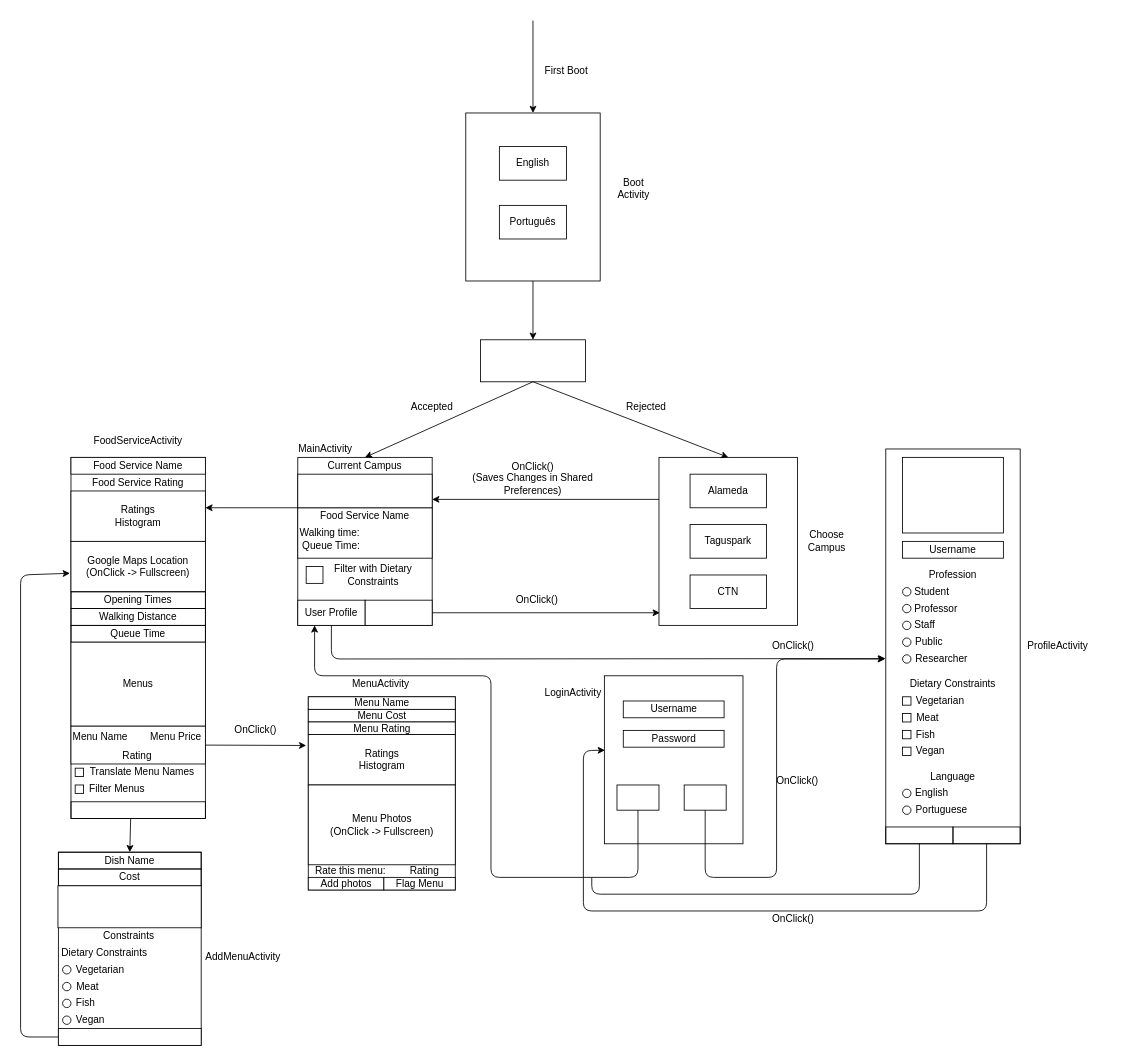
This 1127x1060 diagram has some shape labels left out. The shapes that lost their labels are listed below. From the top down, each one's centre as x and y in pixels, then its label:
point (532, 360): Location permission access
point (364, 490): Dinning options at current Campus
point (952, 495): Foto
point (398, 612): Change Campus
point (137, 810): Add menu
point (637, 797): Login / Logout
point (704, 797): Register
point (919, 835): Edit
point (986, 835): Account
point (129, 906): Add photo
point (129, 1036): Done
